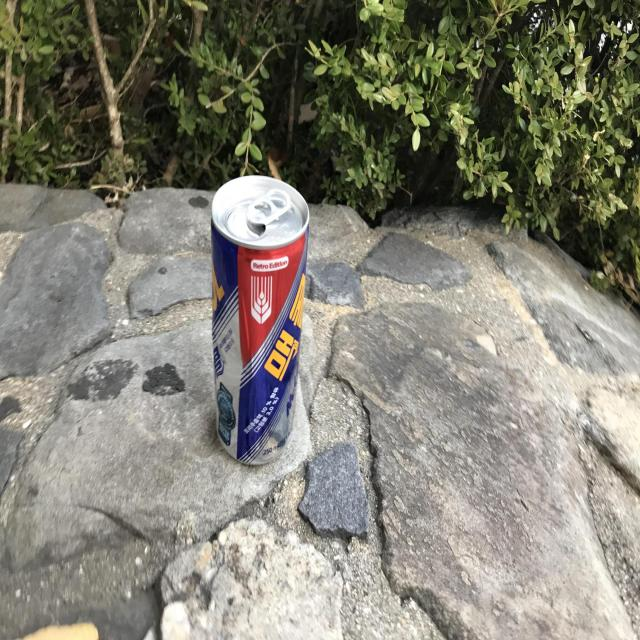can: (211, 175, 309, 465)
